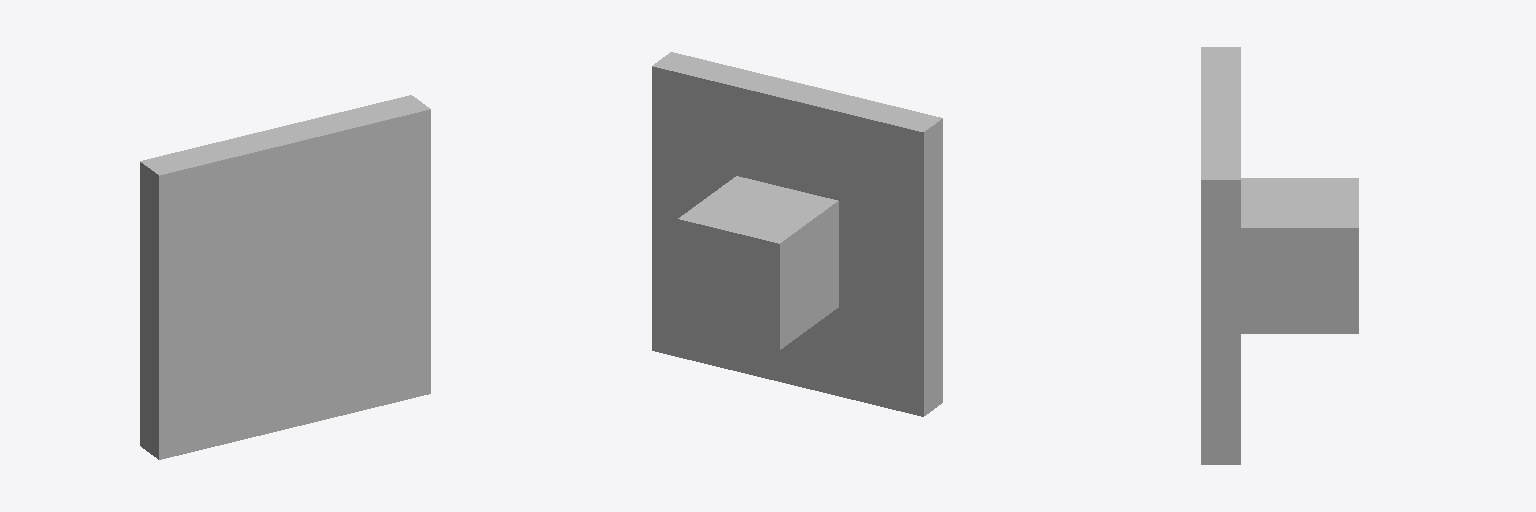
File: gauge_module.obj
The picture shows the model from 3 angles: view 1: azimuth 30°, elevation 25°; view 2: azimuth 150°, elevation 25°; view 3: azimuth 270°, elevation 25°; orthographic projection.
Size of the model in its own units: 0.5 by 0.5 by 0.25.